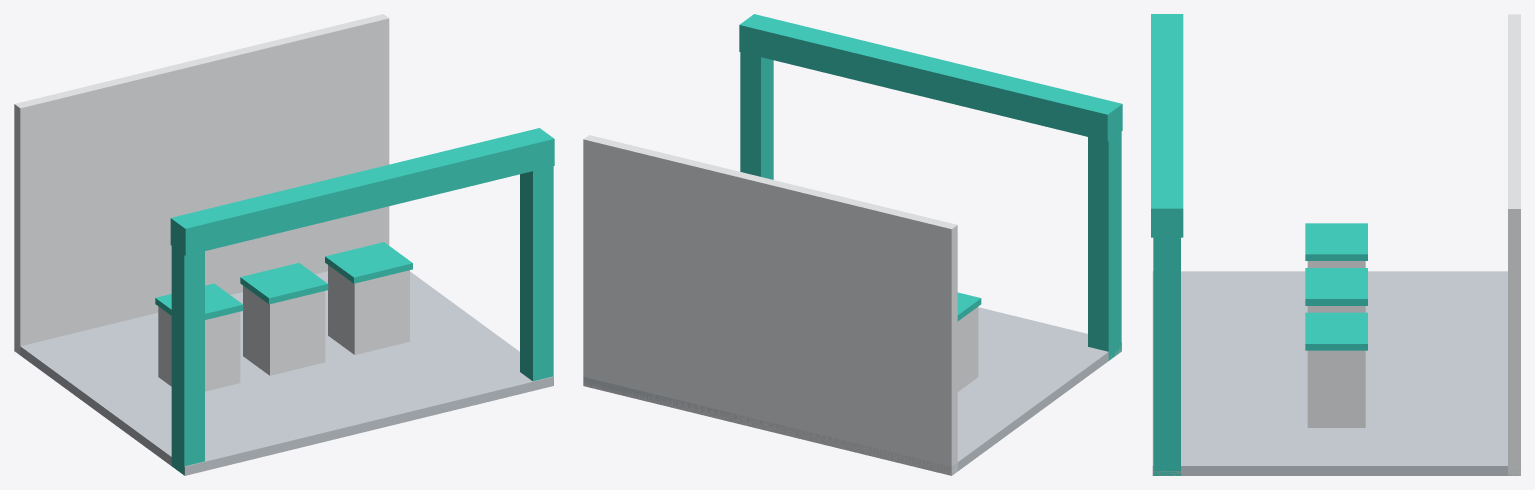
3 renders of one model, left to right at view 1: azimuth 30°, elevation 25°; view 2: azimuth 150°, elevation 25°; view 3: azimuth 270°, elevation 25°, orthographic. The views are drawn at different scales.
Visible parts, largest first — view 1: Exhibition Booth Concept; view 2: Exhibition Booth Concept; view 3: Exhibition Booth Concept.
Part boxes in pixels (box(x1,y1,x2,y2)): Exhibition Booth Concept: box(14, 14, 554, 475); Exhibition Booth Concept: box(583, 14, 1122, 475); Exhibition Booth Concept: box(1151, 14, 1520, 475).
Bounding box in the file's own units: 5 × 3.2 × 4.02.
